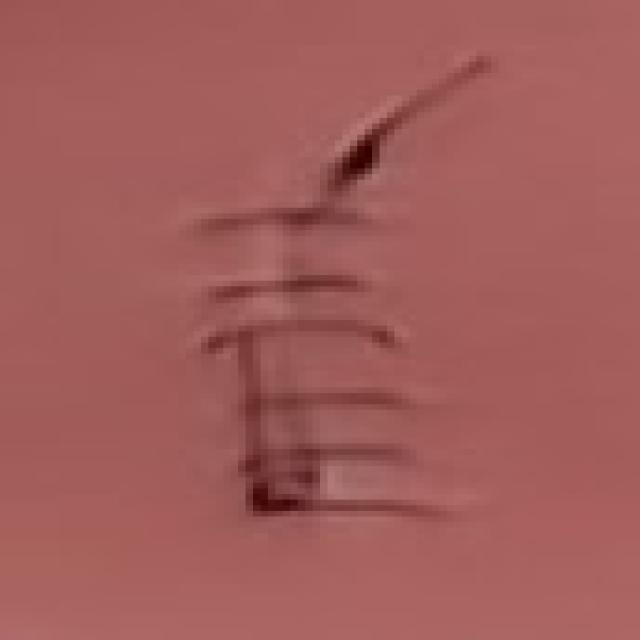suture: (201, 56, 491, 227), (201, 320, 424, 516), (216, 281, 365, 303)
